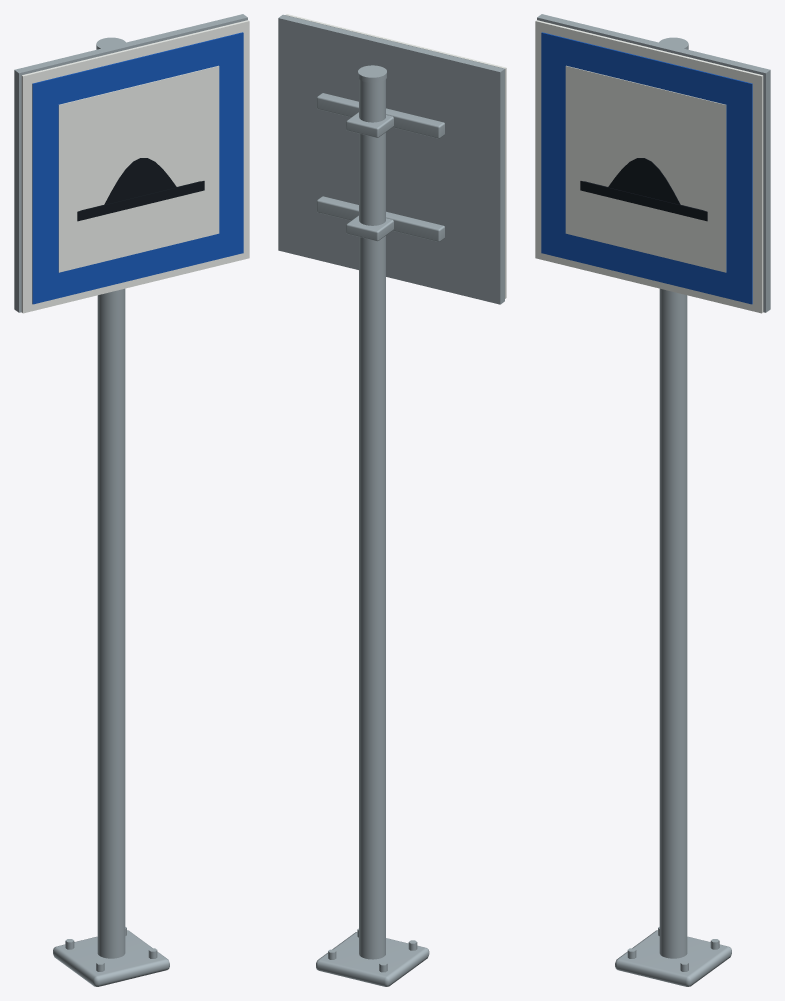
File: DS_Sign_BumpInfo.glb
3 renders of one model, left to right at view 1: azimuth 30°, elevation 25°; view 2: azimuth 150°, elevation 25°; view 3: azimuth 330°, elevation 25°, orthographic. The views are drawn at different scales.
Visible parts, largest first — view 1: InnerSquare, Face_Field.019, Post.026, Face_Border.019, Plate_Back.034, BasePlate.026, BumpShape.001, BumpRoad.001; view 2: Plate_Back.034, Post.026, BasePlate.026, RearRail.055, RearRail.056, Face_Border.019, PostClamp.051, PostClamp.052; view 3: InnerSquare, Face_Field.019, Post.026, Face_Border.019, Plate_Back.034, BasePlate.026, BumpShape.001, BumpRoad.001.
Part boxes in pixels (x1,y1,x2,y2): InnerSquare: [58, 65, 219, 272]; Face_Field.019: [32, 32, 243, 304]; Post.026: [97, 288, 125, 958]; Face_Border.019: [21, 20, 249, 313]; Plate_Back.034: [14, 14, 247, 312]; BasePlate.026: [53, 930, 169, 986]; BumpShape.001: [80, 158, 200, 210]; BumpRoad.001: [77, 181, 204, 221]; Plate_Back.034: [278, 14, 504, 304]; Post.026: [359, 79, 385, 959]; BasePlate.026: [316, 932, 429, 986]; RearRail.055: [316, 196, 444, 241]; RearRail.056: [316, 93, 444, 138]; Face_Border.019: [285, 14, 506, 298]; PostClamp.051: [346, 215, 393, 241]; PostClamp.052: [346, 112, 393, 137]; InnerSquare: [565, 65, 726, 272]; Face_Field.019: [541, 32, 752, 304]; Post.026: [659, 288, 687, 958]; Face_Border.019: [535, 20, 763, 313]; Plate_Back.034: [537, 14, 770, 312]; BasePlate.026: [615, 930, 731, 986]; BumpShape.001: [584, 158, 704, 210]; BumpRoad.001: [580, 181, 707, 221].
Bounding box in the file's own units: 0.72 × 2.81 × 0.282.
